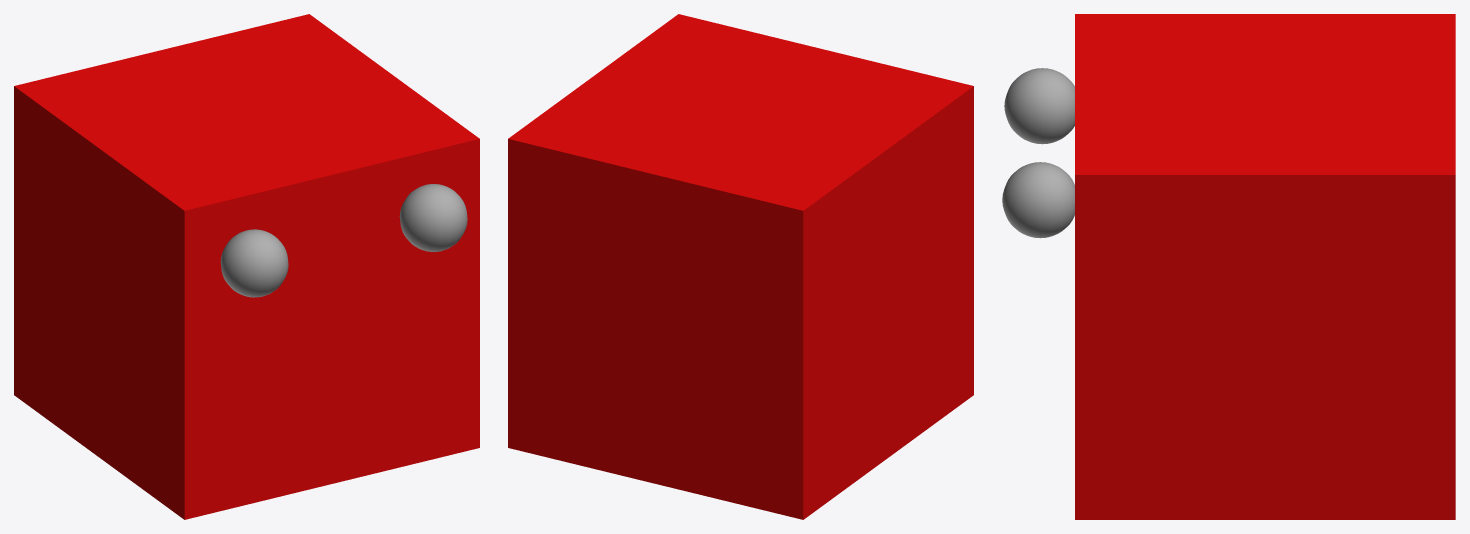
The model's file is Enemy.fbx.
3 renders of one model, left to right at view 1: azimuth 30°, elevation 25°; view 2: azimuth 150°, elevation 25°; view 3: azimuth 270°, elevation 25°, orthographic. The views are drawn at different scales.
Visible parts, largest first — view 1: pCube2; view 2: pCube2; view 3: pCube2.
Boxes of the visible parts, x1,y1,x2,y2 form: pCube2: [14, 14, 479, 519]; pCube2: [508, 14, 973, 519]; pCube2: [1002, 14, 1455, 519].
Bounding box in the file's own units: 1 × 1 × 1.19.
